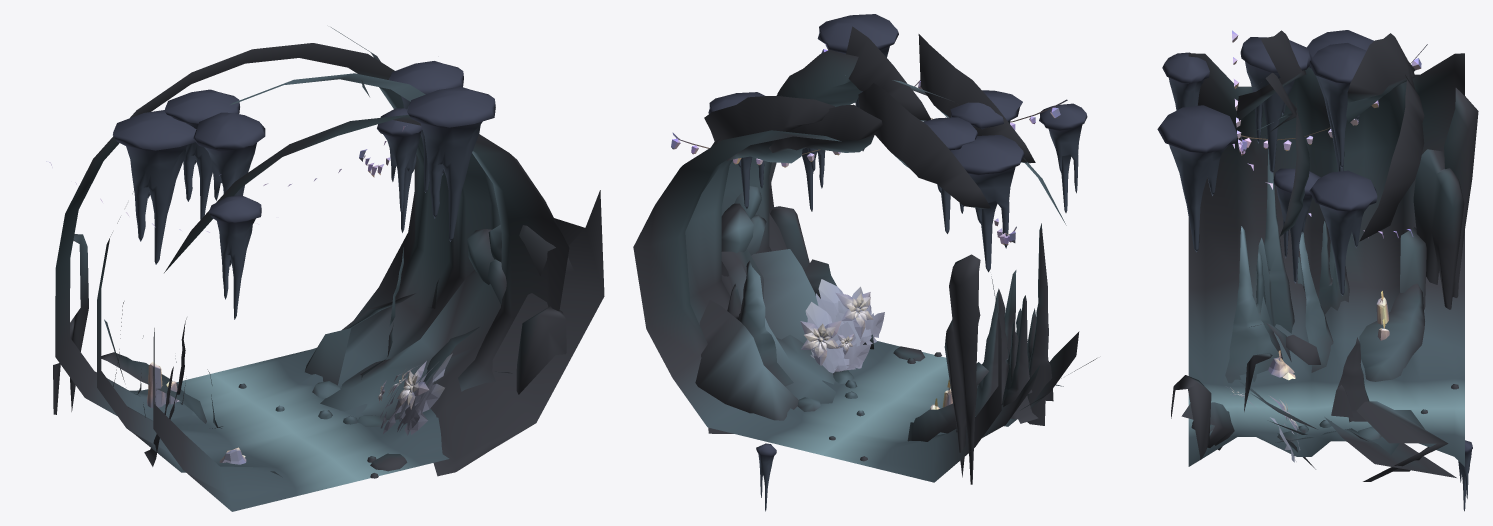
File: Arctic_Tunnels_Straight_B.glb
3 views of the same model, side by side, from view 1: azimuth 30°, elevation 25°; view 2: azimuth 150°, elevation 25°; view 3: azimuth 270°, elevation 25° (orthographic). The views are drawn at different scales.
Visible parts, largest first — view 1: Arctic_Tunnels_Straight_B, Arctic_Tunnels_Icicle_Shadow_A02 (4), Arctic_Tunnels_Icicle_Shadow_A02 (5), Arctic_Tunnels_Icicle_Shadow_A02 (2), Arctic_Tunnels_Icicle_Shadow_A02 (6), Arctic_Tunnels_Icicle_Shadow_A02 (3), Arctic_Tunnels_Icicle_Shadow_A02, Arctic_Tunnels_Icicle_Shadow_A02 (7), Bush_A (1), Arctic_Candle_B_holiday, Arctic_Poinsettia_holiday (1); view 2: Arctic_Tunnels_Straight_B, Arctic_Tunnels_Icicle_Shadow_A02 (5), Arctic_Tunnels_Icicle_Shadow_A02 (3), Arctic_Tunnels_Icicle_Shadow_A02 (4), Bush_A, Arctic_Tunnels_Icicle_Shadow_A02 (2), Bush_A (1), Arctic_Tunnels_Icicle_Shadow_A02 (6), Arctic_Tunnels_Icicle_Shadow_A02 (7), Arctic_Poinsettia_holiday, Arctic_Poinsettia_holiday (1), Arctic_Tunnels_Icicle_Shadow_A02 (+1 smaller); view 3: Arctic_Tunnels_Straight_B, Arctic_Tunnels_Icicle_Shadow_A02 (4), Arctic_Tunnels_Icicle_Shadow_A02 (7), Arctic_Tunnels_Icicle_Shadow_A02 (6), Arctic_Tunnels_Icicle_Shadow_A02 (2), Arctic_Tunnels_Icicle_Shadow_A02 (3), Arctic_Tunnels_Icicle_Shadow_A02, Arctic_Tunnels_Icicle_Shadow_A02 (5), Arctic_StringLights_holiday, Arctic_Tunnels_Icicle_Shadow_A01, Arctic_Candle_B_holiday, Arctic_Candle_C_holiday.
Boxes of the visible parts, x1,y1,x2,y2 form: Arctic_Tunnels_Straight_B: (53,27,604,511); Arctic_Tunnels_Icicle_Shadow_A02 (4): (407,86,495,241); Arctic_Tunnels_Icicle_Shadow_A02 (5): (113,110,196,264); Arctic_Tunnels_Icicle_Shadow_A02 (2): (193,112,265,200); Arctic_Tunnels_Icicle_Shadow_A02 (6): (164,89,239,219); Arctic_Tunnels_Icicle_Shadow_A02 (3): (209,195,261,319); Arctic_Tunnels_Icicle_Shadow_A02: (377,108,422,232); Arctic_Tunnels_Icicle_Shadow_A02 (7): (389,61,463,192); Bush_A (1): (397,353,452,435); Arctic_Candle_B_holiday: (147,361,179,407); Arctic_Poinsettia_holiday (1): (395,361,429,409); Arctic_Tunnels_Straight_B: (633,26,1096,484); Arctic_Tunnels_Icicle_Shadow_A02 (5): (950,135,1024,272); Arctic_Tunnels_Icicle_Shadow_A02 (3): (1039,103,1087,212); Arctic_Tunnels_Icicle_Shadow_A02 (4): (817,14,898,151); Bush_A: (805,302,870,373); Arctic_Tunnels_Icicle_Shadow_A02 (2): (950,90,1022,129); Bush_A (1): (816,279,884,346); Arctic_Tunnels_Icicle_Shadow_A02 (6): (923,117,977,233); Arctic_Tunnels_Icicle_Shadow_A02 (7): (708,92,764,208); Arctic_Poinsettia_holiday: (800,320,841,365); Arctic_Poinsettia_holiday (1): (835,292,873,339); Arctic_Tunnels_Icicle_Shadow_A02: (802,148,825,211); Arctic_Tunnels_Straight_B: (1171,30,1478,481); Arctic_Tunnels_Icicle_Shadow_A02 (4): (1157,105,1237,252); Arctic_Tunnels_Icicle_Shadow_A02 (7): (1309,170,1377,295); Arctic_Tunnels_Icicle_Shadow_A02 (6): (1309,43,1366,167); Arctic_Tunnels_Icicle_Shadow_A02 (2): (1240,37,1311,173); Arctic_Tunnels_Icicle_Shadow_A02 (3): (1162,52,1209,110); Arctic_Tunnels_Icicle_Shadow_A02: (1273,168,1320,283); Arctic_Tunnels_Icicle_Shadow_A02 (5): (1307,30,1373,171); Arctic_StringLights_holiday: (1241,44,1427,150); Arctic_Tunnels_Icicle_Shadow_A01: (1458,440,1472,511); Arctic_Candle_B_holiday: (1376,291,1389,340); Arctic_Candle_C_holiday: (1268,350,1295,380).
Size of the model in its own units: 9.84 by 9.93 by 6.5.
